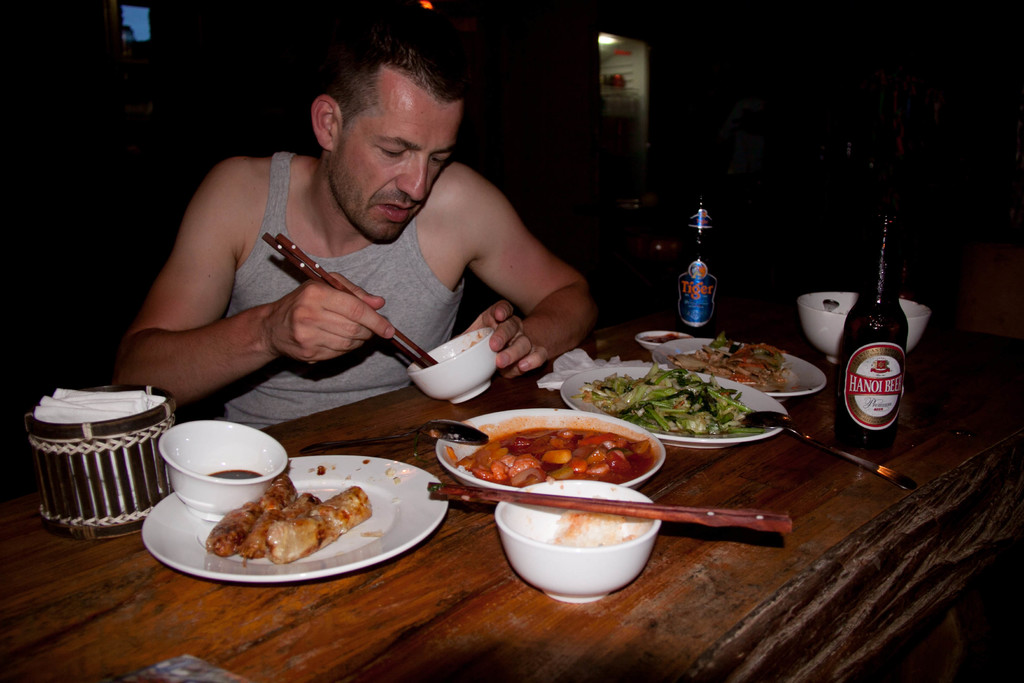salad: (571, 352, 800, 457)
